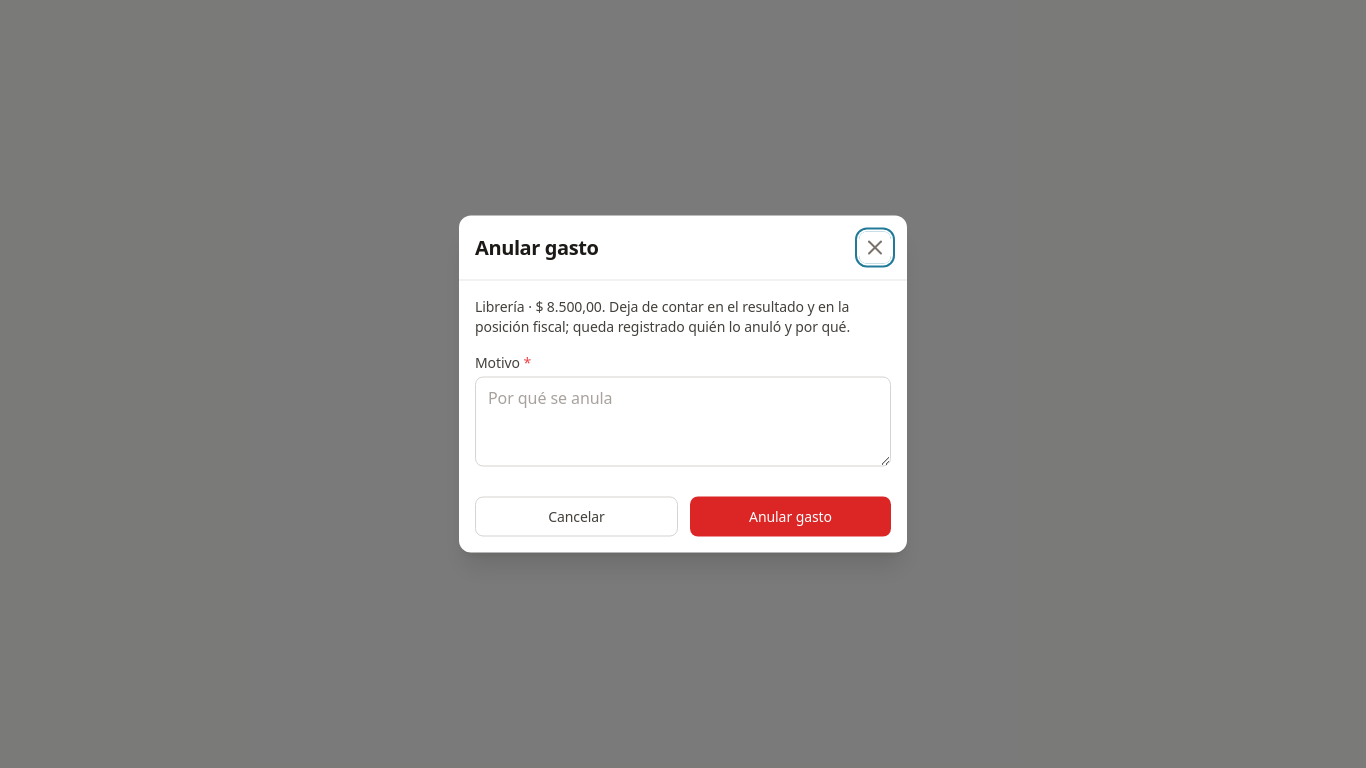
Test: ModalAnularGasto › sin motivo no anula y dice qué hacer
Click the button "Anular gasto". click: coordinates (790, 516)
box: 690,496 -> 891,536
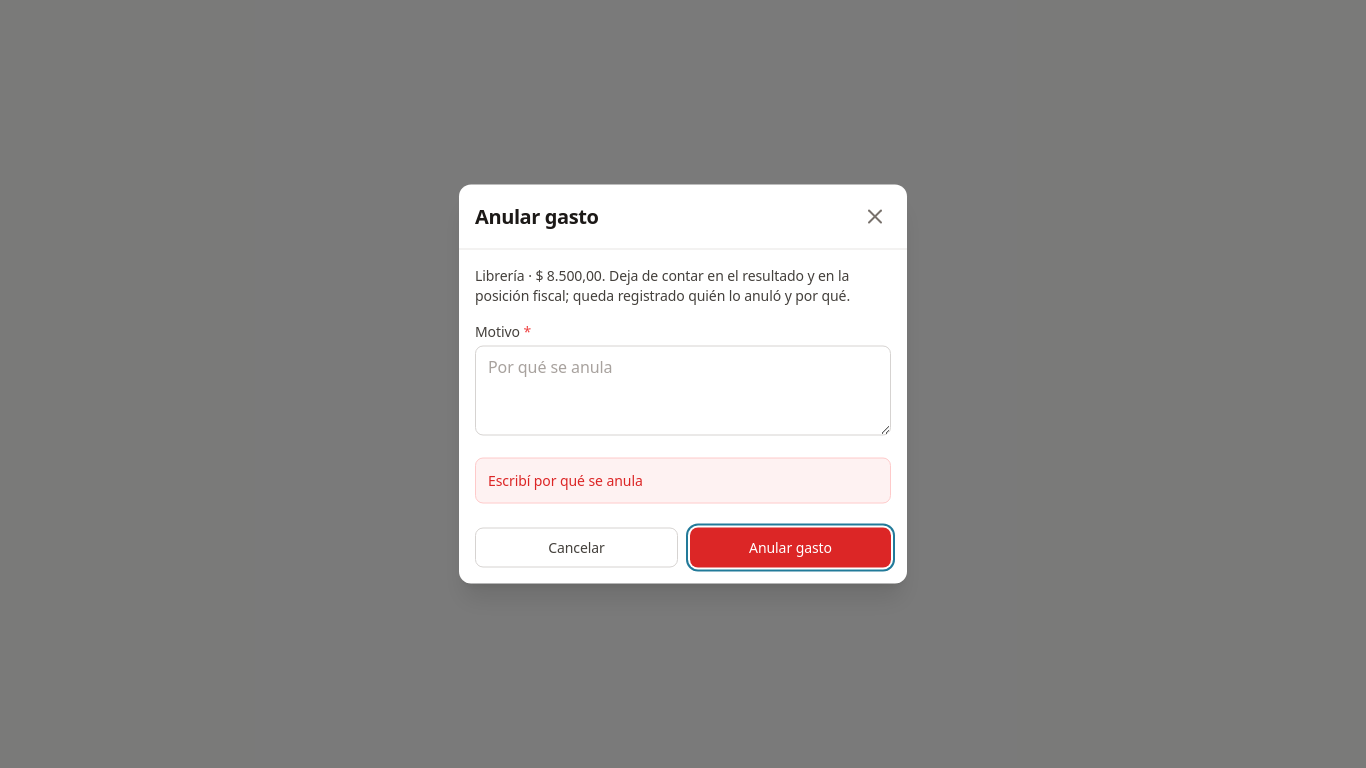
Expected: the text "Escribí por qué se anula" is shown, 488,470 -> 643,490
